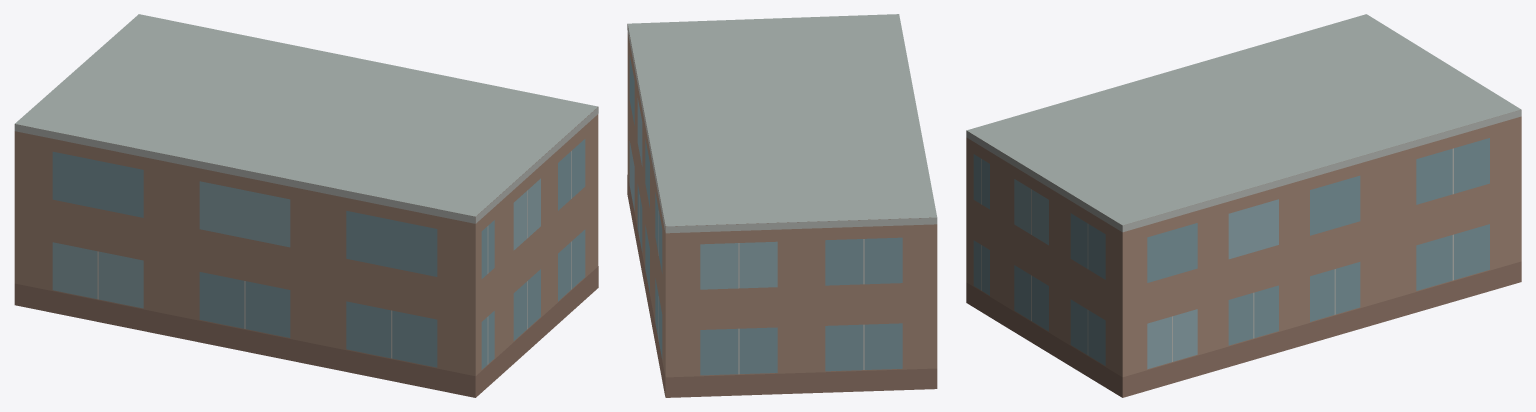
File: survey-upis-32676646.glb
3 views of the same model, side by side, from view 1: azimuth 30°, elevation 25°; view 2: azimuth 150°, elevation 25°; view 3: azimuth 270°, elevation 25° (orthographic). The views are drawn at different scales.
Parts seen in each view (by area): view 1: survey-upis-32676646.tmp; view 2: survey-upis-32676646.tmp; view 3: survey-upis-32676646.tmp.
Boxes of the visible parts, bbox=[...] form: survey-upis-32676646.tmp: bbox=[14, 14, 598, 397]; survey-upis-32676646.tmp: bbox=[627, 14, 937, 397]; survey-upis-32676646.tmp: bbox=[966, 14, 1521, 397].
Bounding box in the file's own units: 16.06 × 6.1 × 17.81.
